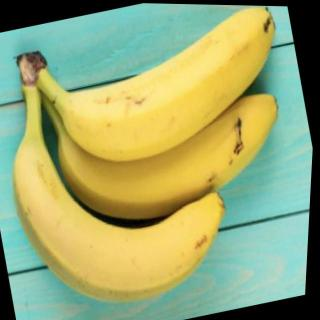banana: (0, 95, 250, 320), (42, 1, 301, 180), (49, 78, 301, 242)
